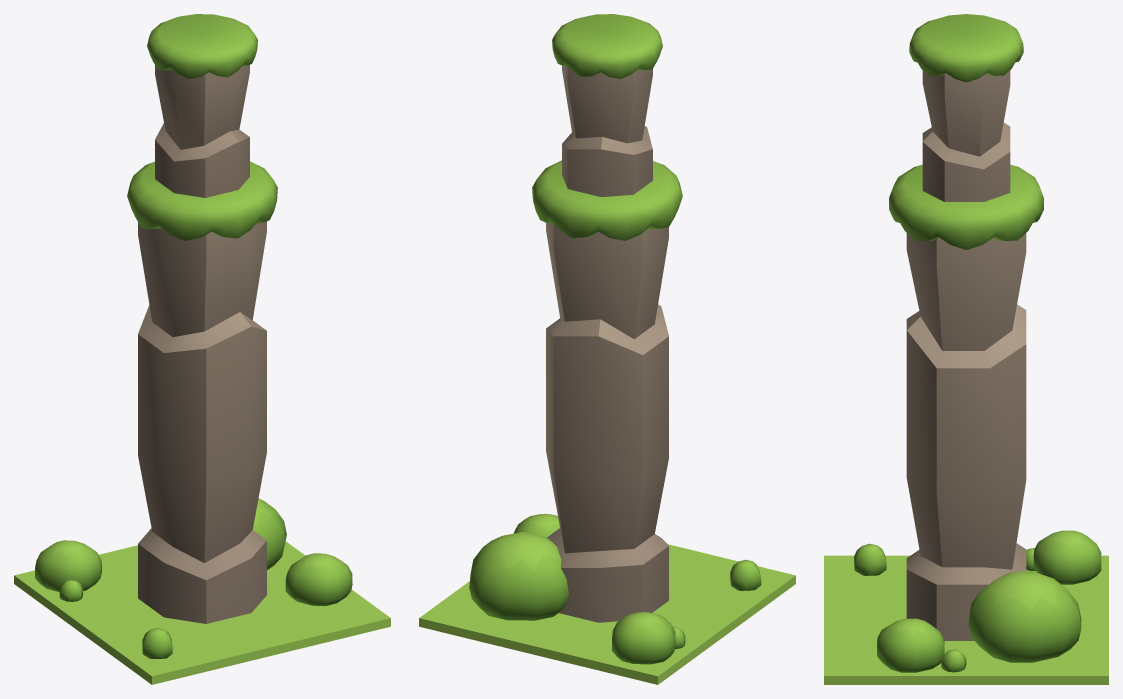
File: stone_column.glb
The picture shows the model from 3 angles, left to right: view 1: azimuth 30°, elevation 25°; view 2: azimuth 150°, elevation 25°; view 3: azimuth 270°, elevation 25°; orthographic projection. The views are drawn at different scales.
Parts seen in each view (by area): view 1: Stone Collum; view 2: Stone Collum; view 3: Stone Collum.
Part boxes in pixels (left/top/right/bottom): Stone Collum: left=14, top=14, right=390, bottom=684; Stone Collum: left=419, top=14, right=795, bottom=684; Stone Collum: left=824, top=14, right=1108, bottom=684.
Bounding box in the file's own units: 0.29 × 0.6805 × 0.29.
1 material, 1 textured.
